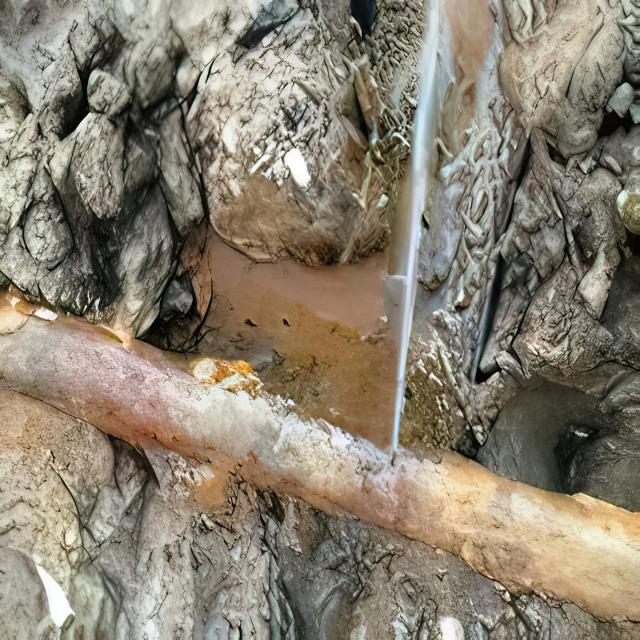leak: (390, 0, 451, 460)
